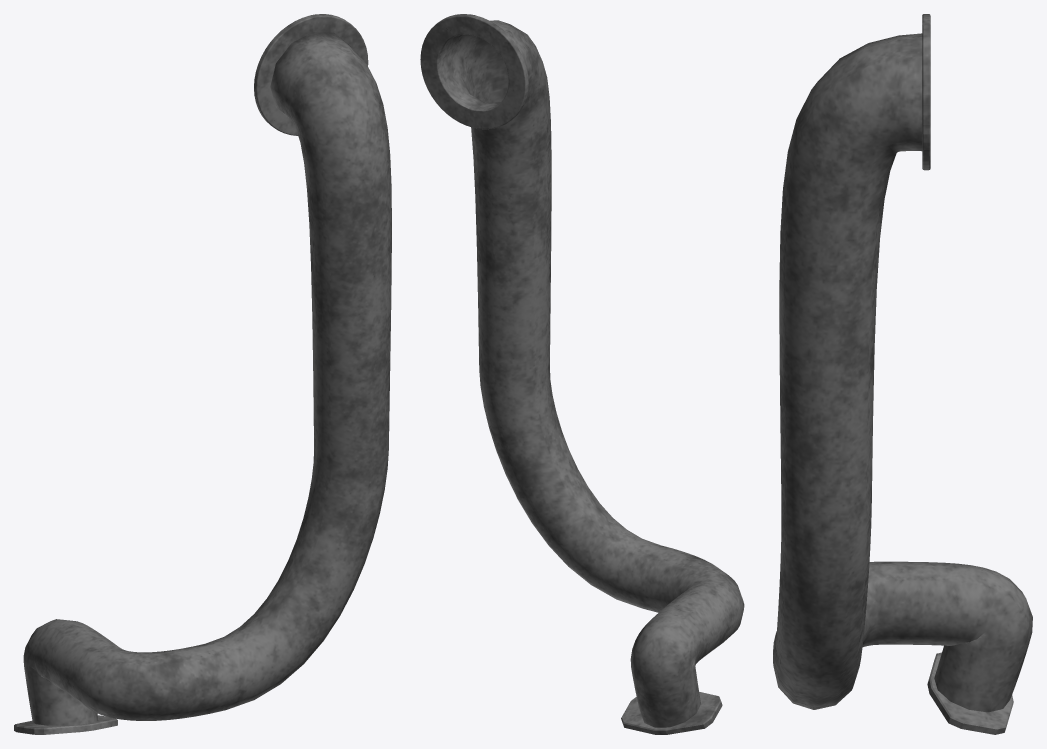
Rendered from turboBig-exhaust-outlet-tube.fbx.
3 views of the same model, side by side, from view 1: azimuth 30°, elevation 25°; view 2: azimuth 150°, elevation 25°; view 3: azimuth 270°, elevation 25° (orthographic). The views are drawn at different scales.
Parts seen in each view (by area): view 1: turboBig-exhaust-outlet-tube; view 2: turboBig-exhaust-outlet-tube; view 3: turboBig-exhaust-outlet-tube.
Part boxes in pixels (box(x1,y1,x2,y2)): turboBig-exhaust-outlet-tube: box(14, 14, 391, 734); turboBig-exhaust-outlet-tube: box(420, 14, 744, 734); turboBig-exhaust-outlet-tube: box(773, 14, 1032, 734).
Size of the model in its own units: 28.22 by 55.86 by 15.97.
